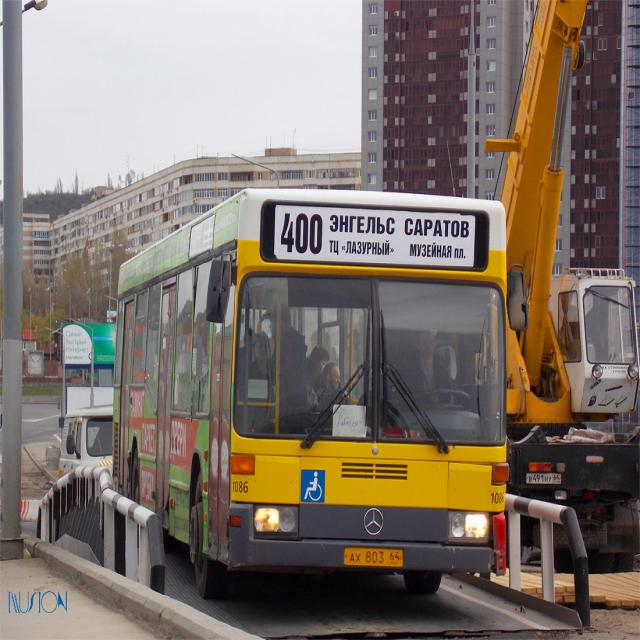number-of-bus: (277, 208, 328, 261)
